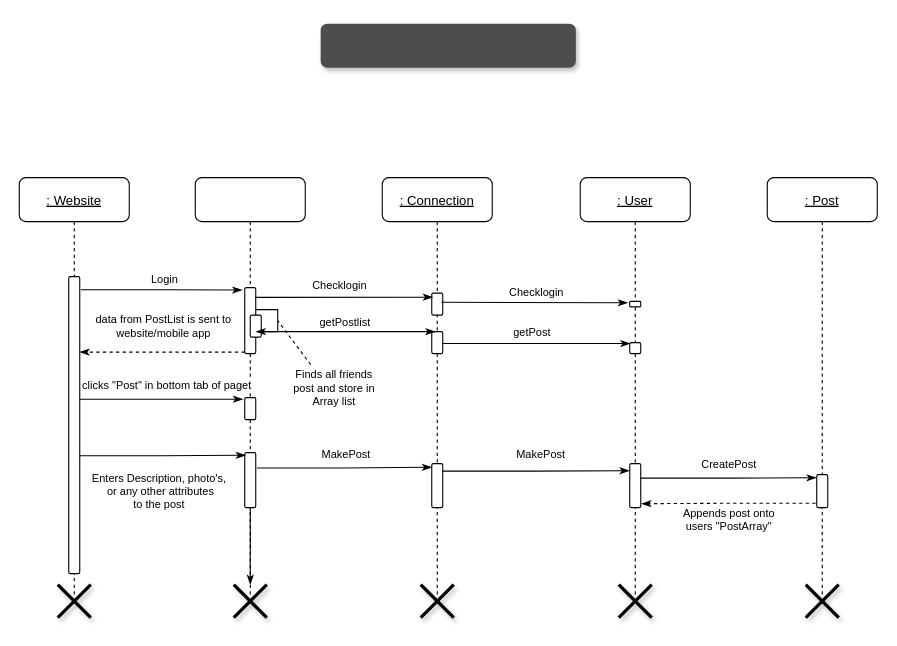
Image size: 897x646. Some labels were removed from this diagram. Each missing label, with the centre of its shape:
: SocialSystem: pixel 249 386
Sequence_diagram: pixel 449 47
